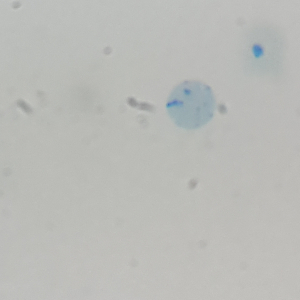aggregate reticulocyte: (164, 79, 217, 131)
